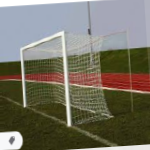goals: (19, 28, 114, 127)
